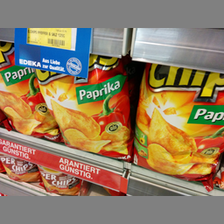chips: (134, 62, 224, 187), (34, 51, 132, 159)
